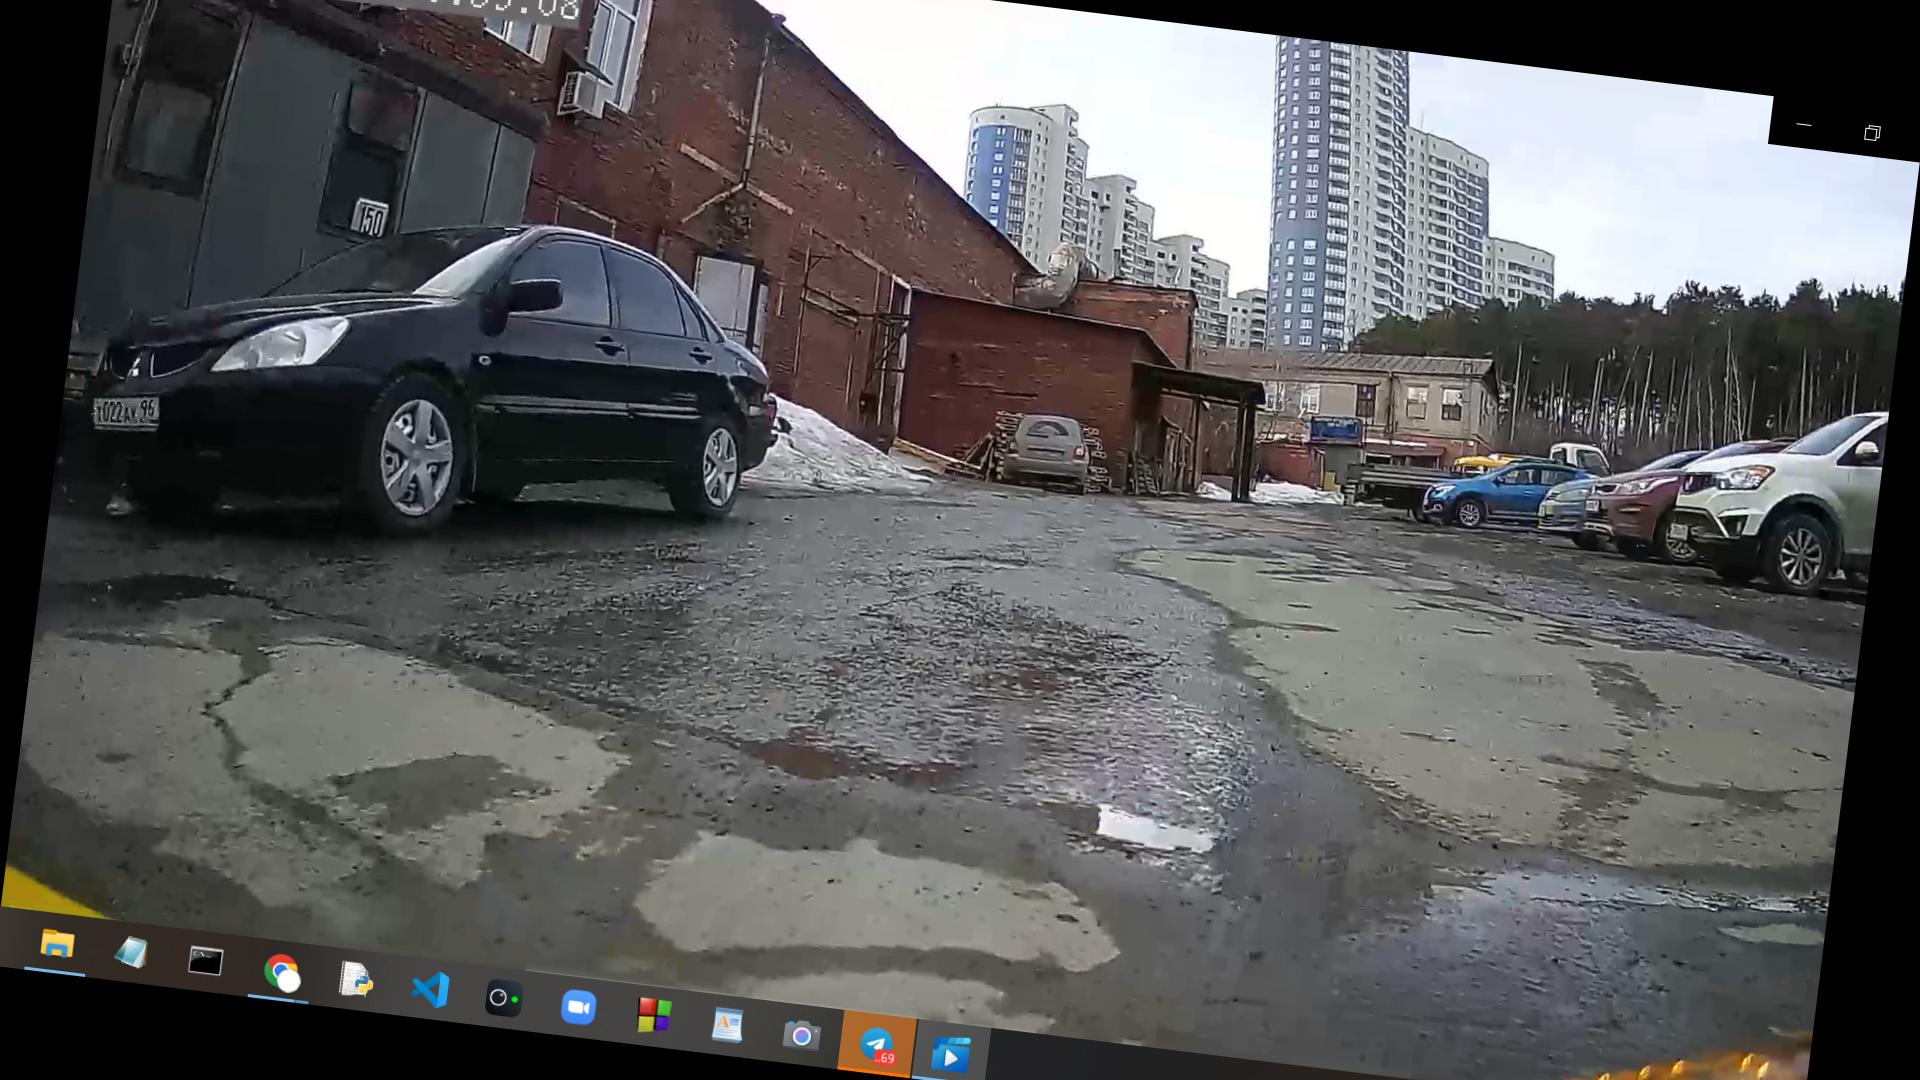plate: (92, 397, 158, 430)
